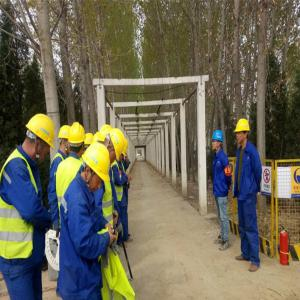blue: (212, 130, 225, 154)
yellow: (26, 113, 56, 166), (83, 143, 112, 196), (106, 130, 127, 167), (70, 123, 86, 157), (235, 118, 250, 145), (59, 125, 72, 154)
